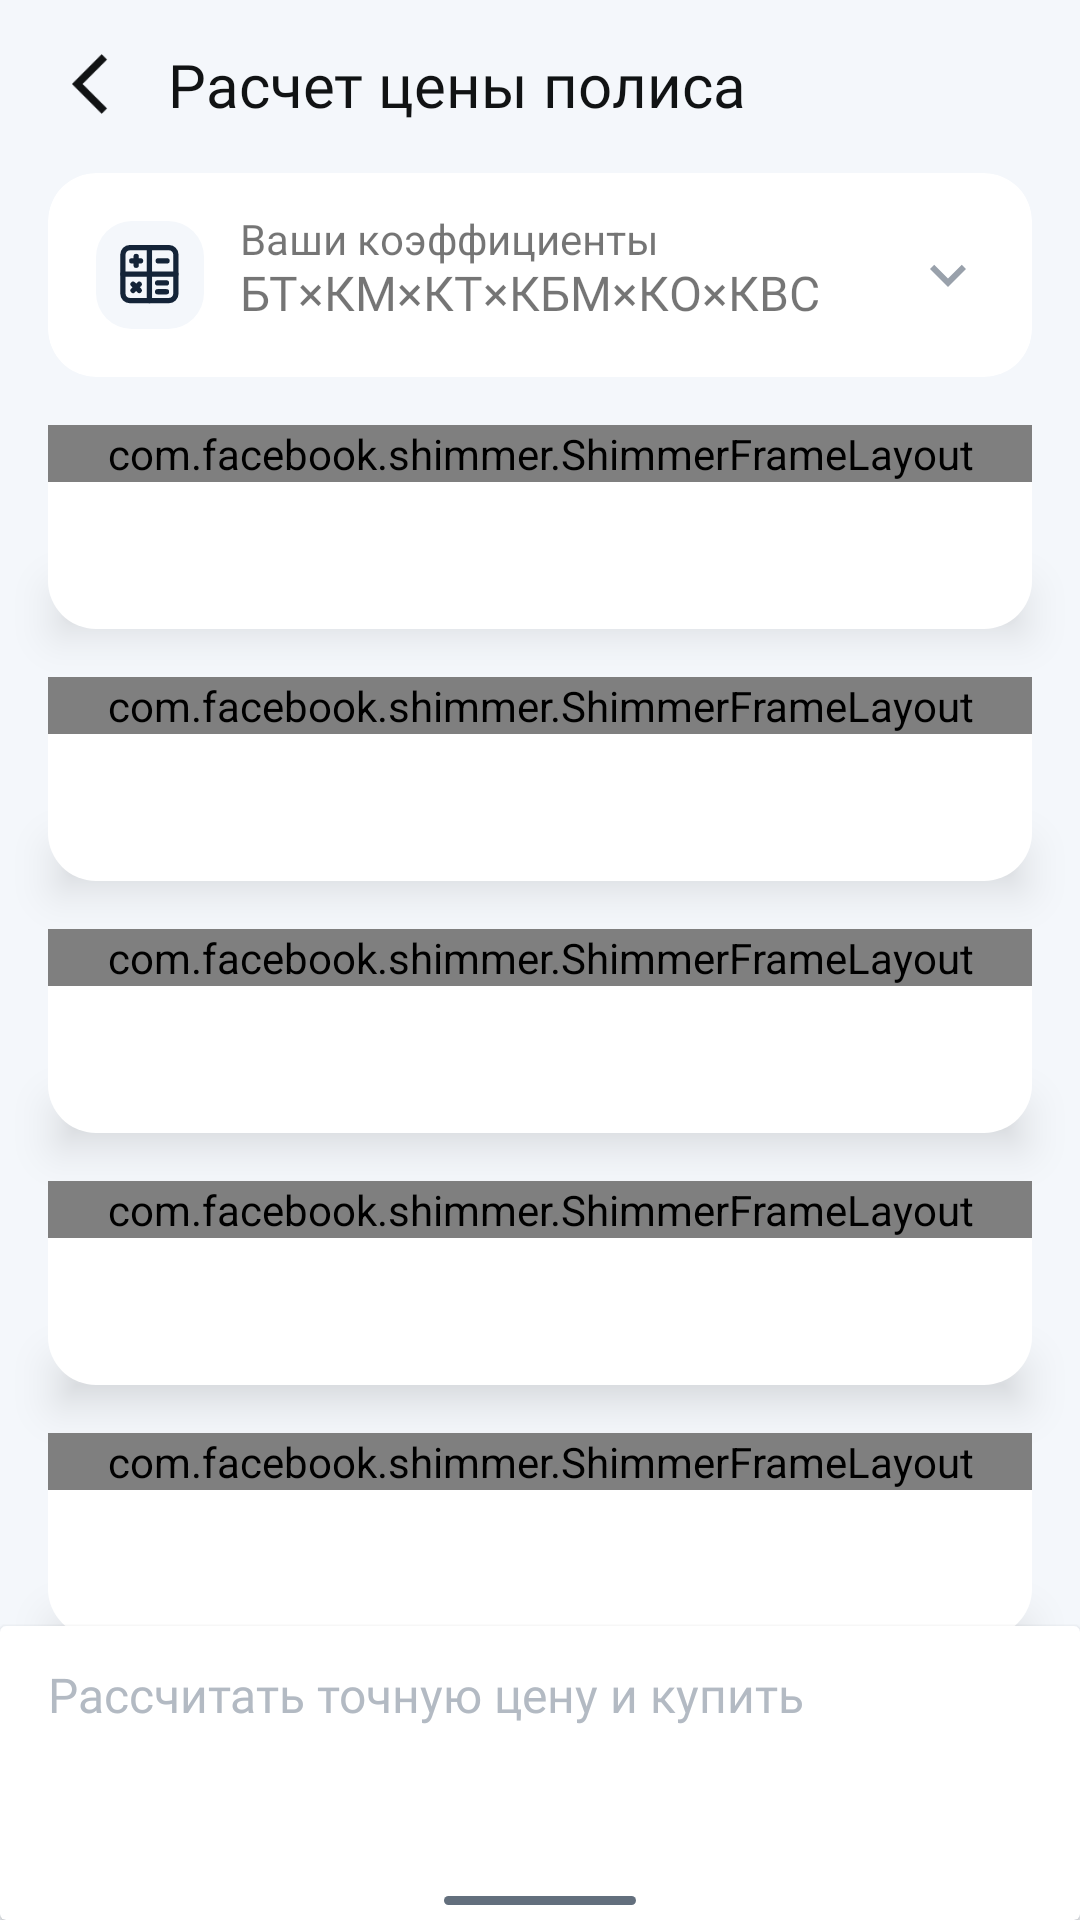

Icon click points for this 1080px×1920px phone screenshot, format (x,y):
arrow back: (89,84)
expand more: (948,276)
